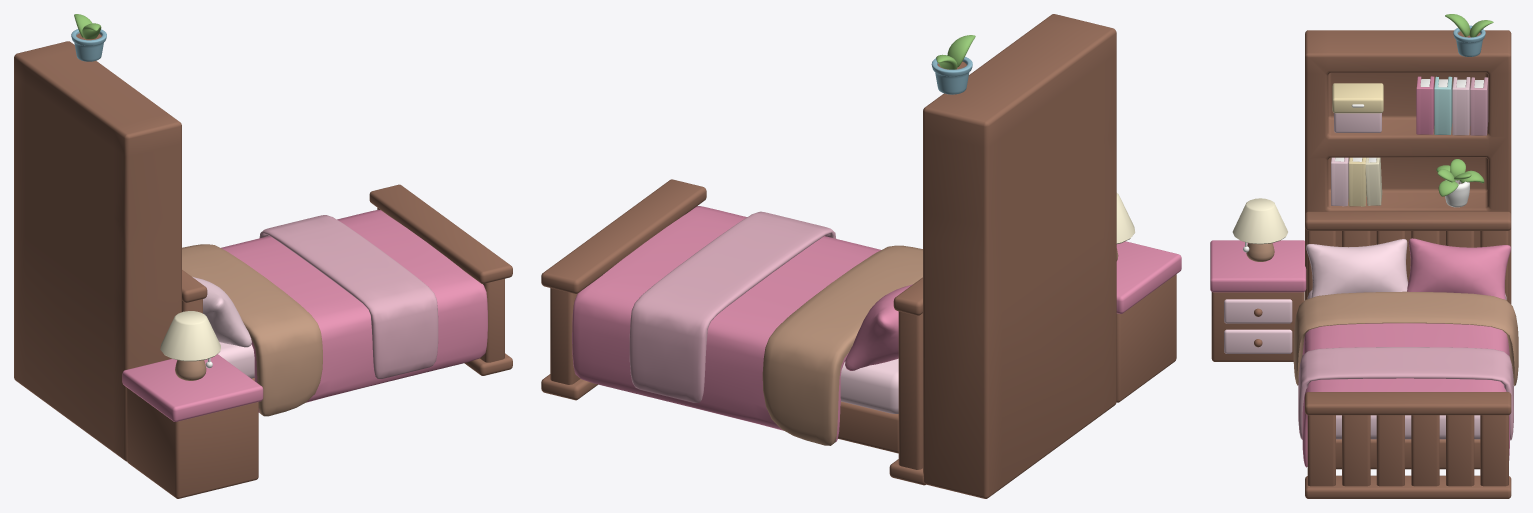
The model's file is bed.gltf.
3 renders of one model, left to right at view 1: azimuth 30°, elevation 25°; view 2: azimuth 150°, elevation 25°; view 3: azimuth 270°, elevation 25°, orthographic. The views are drawn at different scales.
Parts seen in each view (by area): view 1: Cube.7, Cube.2-서랍, Cube.1 (×2), Cube (×3), Cube.2-Mfloor1, Cube.2 (×2), Cylinder, Cube.1 0, Cylinder-서랍, Cylinder.1, Cube.6; view 2: Cube.7, Cube.2-서랍, Cube (×2), Cube.2-Mfloor1, Cube.1 (×2), Cube.2 (×3), Cube.1 5 (×2), Cube.5, Cylinder-서랍, Cube.6; view 3: Cube.7 (×2), Cube (×5), Cube.2 (×4), Cube.1 (×3), Cube.2-Mfloor1, Cube.2-서랍, Cube.6 (×2), Cube.1 0 (×2), Cube.1 5 (×2), Cube.3 (×2), Cube.1 4 (×2), Cube.1 1 (×2) (+10 smaller).
Part boxes in pixels (bbox=[...]): Cube.7: bbox=[14, 41, 181, 461]; Cube.2-서랍: bbox=[221, 209, 487, 412]; Cube.1 (×2): bbox=[127, 184, 512, 498]; Cube (×3): bbox=[192, 215, 438, 378]; Cube.2-Mfloor1: bbox=[182, 244, 322, 416]; Cube.2 (×2): bbox=[122, 353, 512, 421]; Cylinder: bbox=[160, 311, 220, 361]; Cube.1 0: bbox=[480, 279, 504, 362]; Cylinder-서랍: bbox=[71, 29, 106, 61]; Cylinder.1: bbox=[175, 360, 206, 380]; Cube.6: bbox=[182, 270, 207, 302]; Cube.7: bbox=[923, 14, 1116, 498]; Cube.2-서랍: bbox=[572, 206, 880, 441]; Cube (×2): bbox=[629, 211, 898, 413]; Cube.2-Mfloor1: bbox=[762, 245, 922, 445]; Cube.1 (×2): bbox=[541, 179, 1176, 402]; Cube.2 (×3): bbox=[541, 241, 1181, 400]; Cube.1 5 (×2): bbox=[550, 288, 922, 469]; Cube.5: bbox=[838, 401, 898, 453]; Cylinder-서랍: bbox=[931, 55, 972, 94]; Cube.6: bbox=[893, 277, 922, 315]; Cube.7 (×2): bbox=[1305, 30, 1511, 304]; Cube (×5): bbox=[1224, 157, 1513, 440]; Cube.2 (×4): bbox=[1210, 157, 1511, 498]; Cube.1 (×3): bbox=[1211, 157, 1511, 415]; Cube.2-Mfloor1: bbox=[1293, 291, 1518, 385]; Cube.2-서랍: bbox=[1302, 323, 1509, 467]; Cube.6 (×2): bbox=[1305, 76, 1511, 230]; Cube.1 0 (×2): bbox=[1307, 231, 1335, 486]; Cube.1 5 (×2): bbox=[1480, 230, 1508, 486]; Cube.3 (×2): bbox=[1224, 76, 1452, 323]; Cube.1 4 (×2): bbox=[1446, 231, 1474, 486]; Cube.1 1 (×2): bbox=[1342, 231, 1370, 486].
Bounding box in the file's own units: 1.26 × 1.13 × 0.94.
